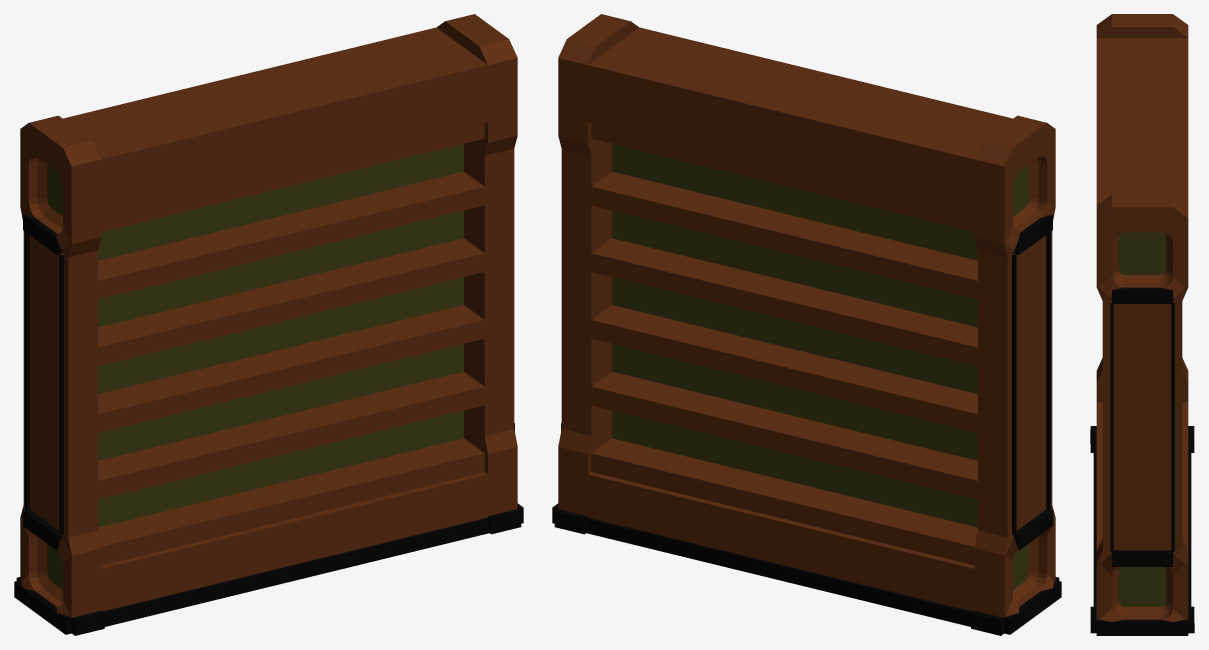
The model's file is shelf.fbx.
The picture shows the model from 3 angles, left to right: view 1: azimuth 30°, elevation 25°; view 2: azimuth 150°, elevation 25°; view 3: azimuth 270°, elevation 25°; orthographic projection. The views are drawn at different scales.
Visible parts, largest first — view 1: Cube.001, Cube, Cube.002; view 2: Cube.001, Cube, Cube.002; view 3: Cube.002, Cube.001, Cube.
Part boxes in pixels (x1,y1,x2,y2): Cube.001: (63,27,489,626); Cube: (14,115,104,635); Cube.002: (437,14,523,534); Cube.001: (586,27,1012,626); Cube: (971,115,1061,635); Cube.002: (552,14,638,534); Cube.002: (1090,194,1194,635); Cube.001: (1093,38,1191,606); Cube: (1090,14,1194,452).
Size of the model in its own units: 15.4 by 15.4 by 3.41.
